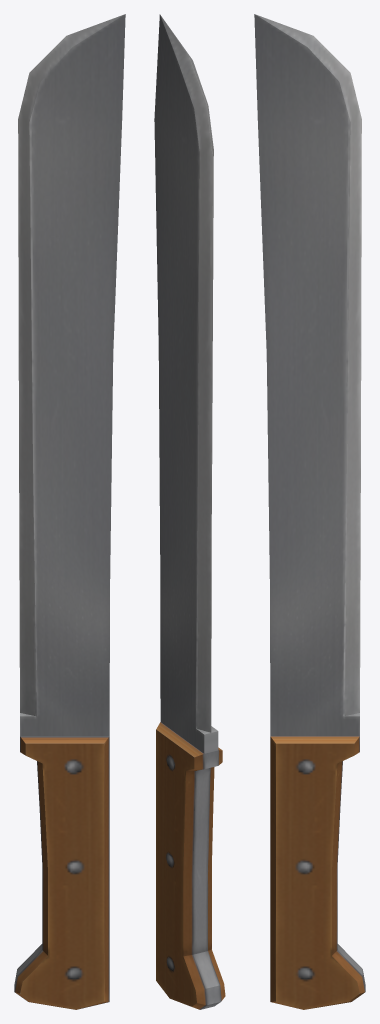
Rendered from MacheteNew.fbx.
3 views of the same model, side by side, from view 1: azimuth 90°, elevation 25°; view 2: azimuth 210°, elevation 25°; view 3: azimuth 270°, elevation 25° (orthographic). The views are drawn at different scales.
Visible parts, largest first — view 1: MacheteNEW; view 2: MacheteNEW; view 3: MacheteNEW.
Part boxes in pixels (x1,y1,x2,y2): MacheteNEW: (14, 14, 125, 1009); MacheteNEW: (154, 14, 225, 1009); MacheteNEW: (254, 14, 365, 1009).
Bounding box in the file's own units: 0.012 × 0.3897 × 0.0396.
